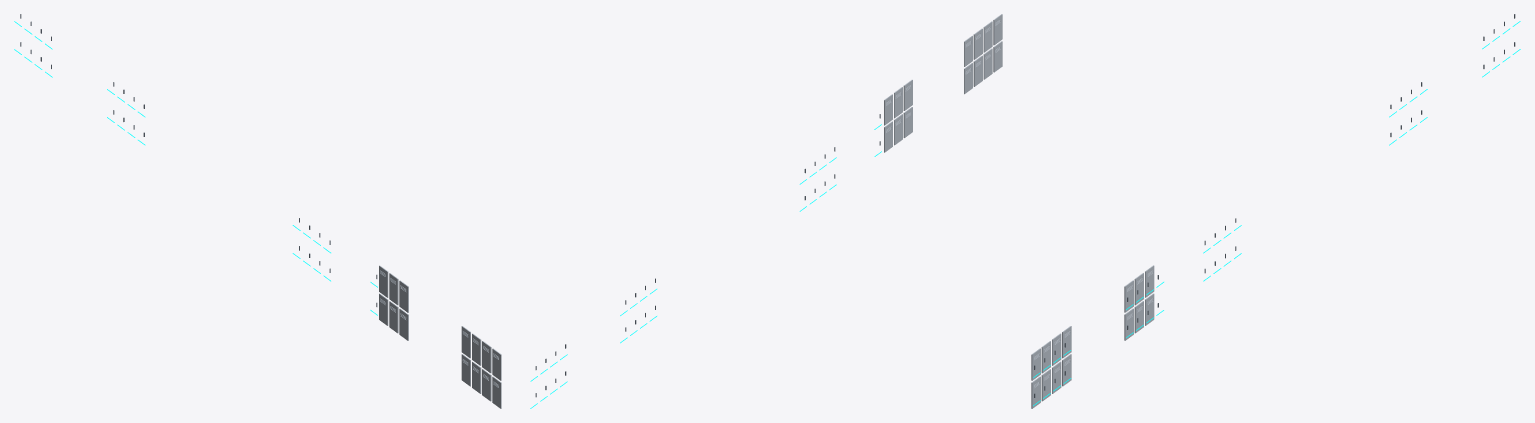
The model's file is tt_gallery_lockers_b.glb.
3 views of the same model, side by side, from view 1: azimuth 30°, elevation 25°; view 2: azimuth 150°, elevation 25°; view 3: azimuth 330°, elevation 25° (orthographic). The views are drawn at different scales.
Visible parts, largest first — view 1: Locker_Face; view 2: Locker_Face; view 3: Locker_Face, Locker_Reveal.
Part boxes in pixels (x1,y1,x2,y2): Locker_Face: (379, 265, 501, 408); Locker_Face: (884, 14, 1002, 152); Locker_Face: (1031, 265, 1154, 408); Locker_Reveal: (1033, 21, 1520, 405).
Size of what is drawn, in the model's own units: 0.064 by 1.93 by 31.49.
Materials: 3 (2 with a texture image).
